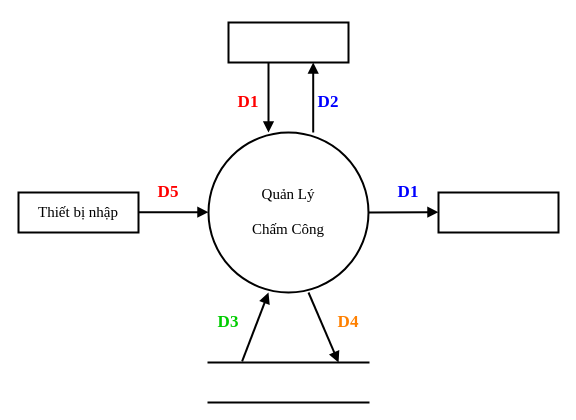
Some shapes in this 576 by 420 pixel diagram are drawn without their labels. Each missing label, with the centre of its shape:
Nhân viên: [288,42]
Thiết bị xuất: [498,212]
